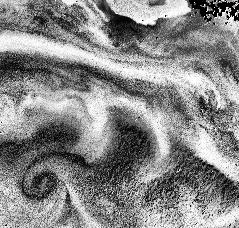CE: (17, 150, 67, 202)
